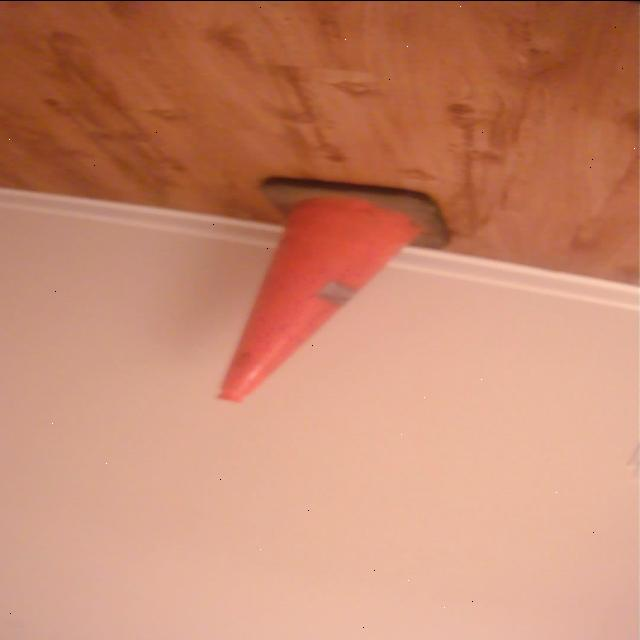traffic cone: (211, 172, 463, 408)
